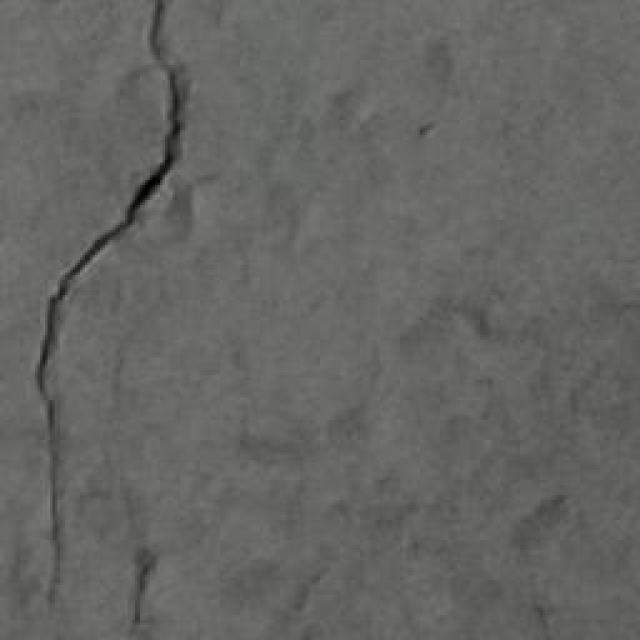Longitudinal: (13, 0, 176, 640)
